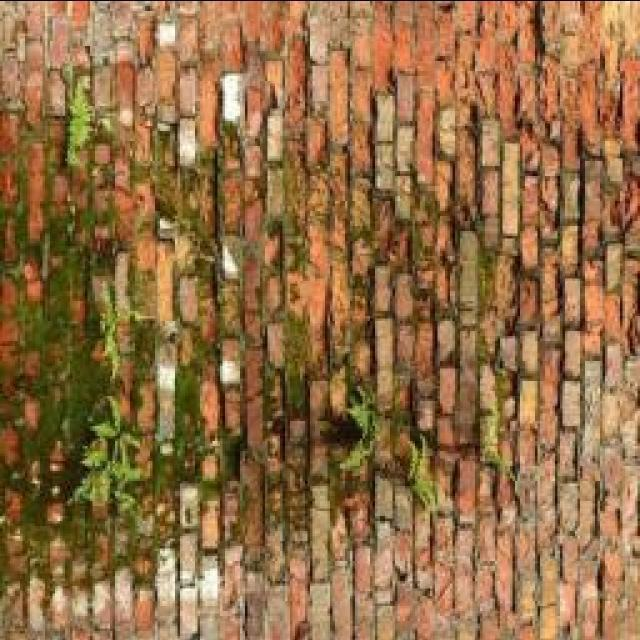dampness: (5, 109, 533, 516), (2, 29, 103, 515), (110, 0, 184, 304)
vegetation: (69, 266, 169, 515), (65, 77, 95, 169)
